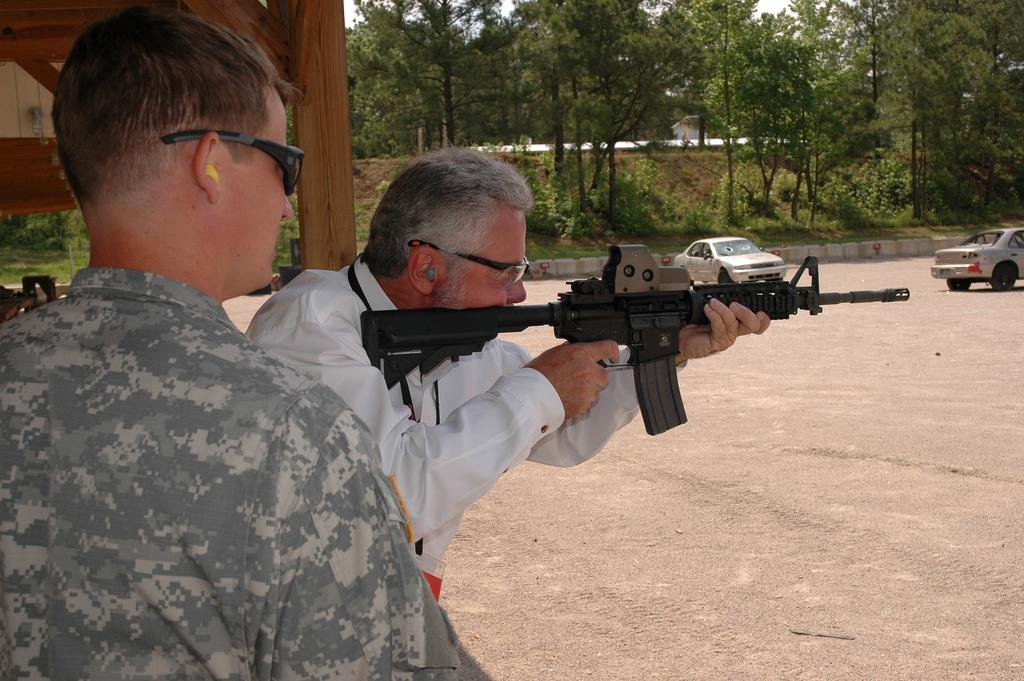Rifle: (362, 245, 910, 434)
